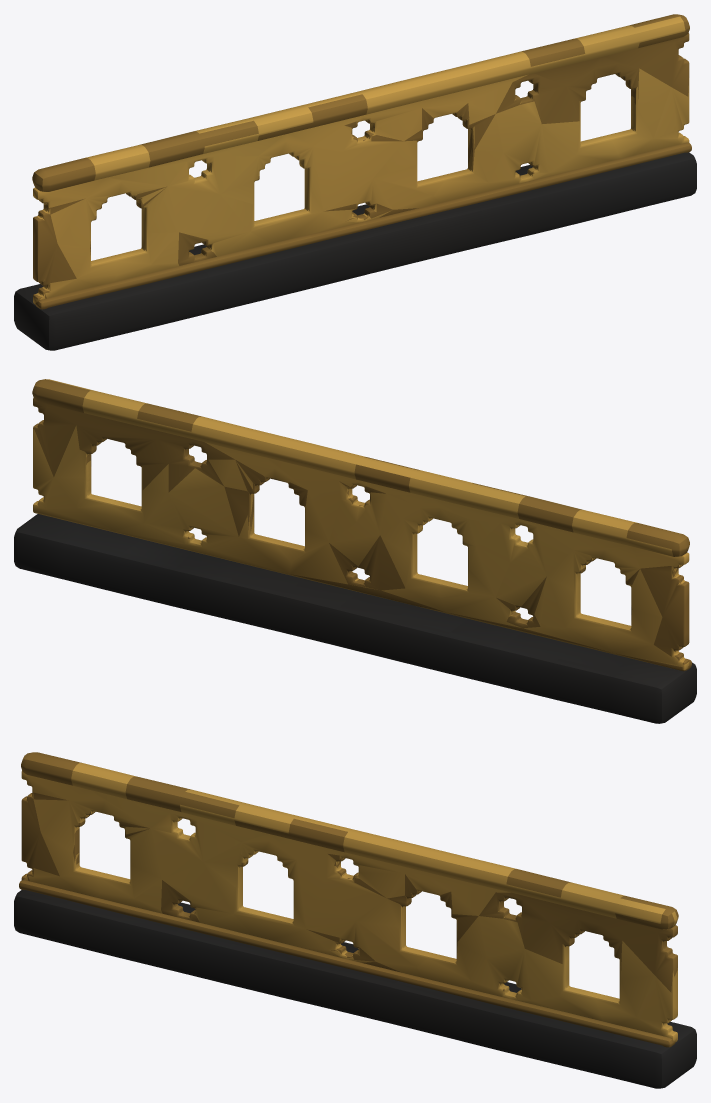
Rendered from ember_fender_b.glb.
3 renders of one model, top to bottom at view 1: azimuth 30°, elevation 25°; view 2: azimuth 150°, elevation 25°; view 3: azimuth 330°, elevation 25°, orthographic.
Visible parts, largest first — view 1: ember_fender_b; view 2: ember_fender_b; view 3: ember_fender_b.
Part boxes in pixels (x1,y1,x2,y2): ember_fender_b: (14, 14, 696, 350); ember_fender_b: (14, 379, 696, 723); ember_fender_b: (14, 752, 696, 1088).
Size of the model in its own units: 40 by 10.23 by 4.01.
